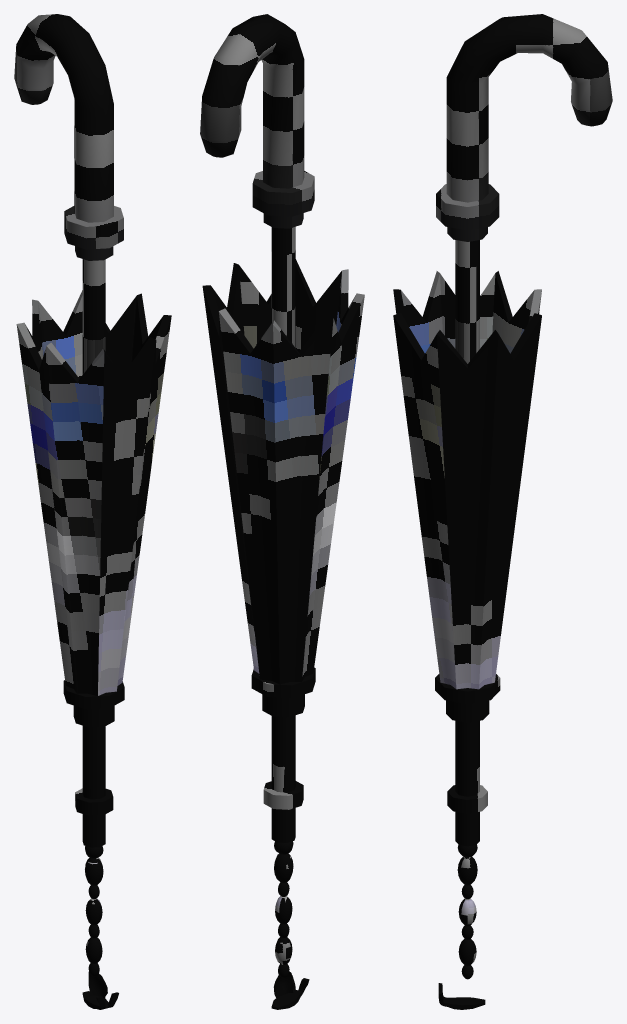
The model's file is umbrella.obj.
The picture shows the model from 3 angles, left to right: view 1: azimuth 30°, elevation 25°; view 2: azimuth 150°, elevation 25°; view 3: azimuth 270°, elevation 25°; orthographic projection. The views are drawn at different scales.
Visible parts, largest first — view 1: Cylinder.005; view 2: Cylinder.005; view 3: Cylinder.005.
Part boxes in pixels (left/top/right/bottom): Cylinder.005: left=14, top=14, right=171, bottom=1009; Cylinder.005: left=200, top=14, right=364, bottom=1009; Cylinder.005: left=393, top=14, right=612, bottom=1009.
Size of the model in its own units: 0.727 by 5.34 by 1.07.
